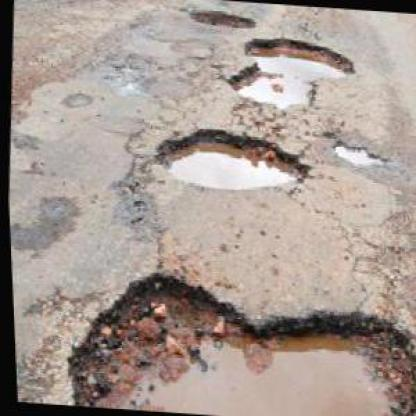pothole: (148, 121, 316, 194), (223, 32, 358, 112), (330, 140, 387, 168), (186, 8, 258, 30)
